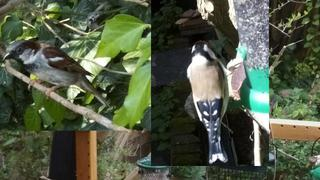goldfinch: (186, 40, 229, 164)
sparrow: (3, 40, 111, 108)
